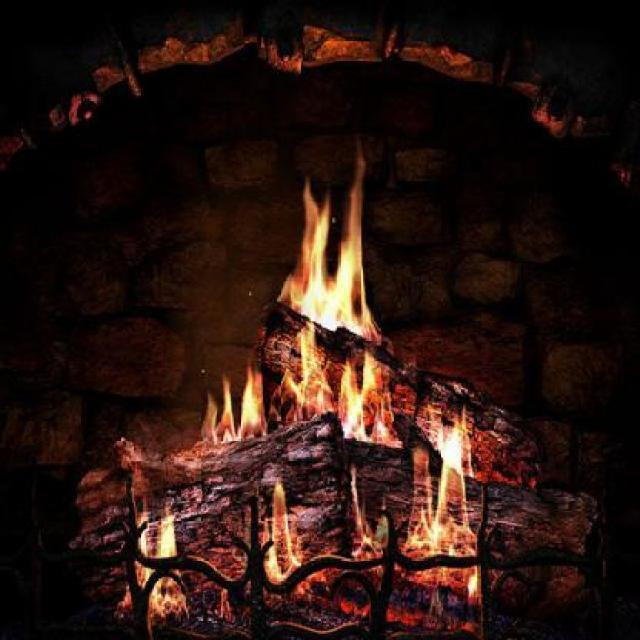Fire: (202, 344, 396, 446), (276, 154, 384, 332), (407, 418, 470, 555), (266, 487, 302, 582)
